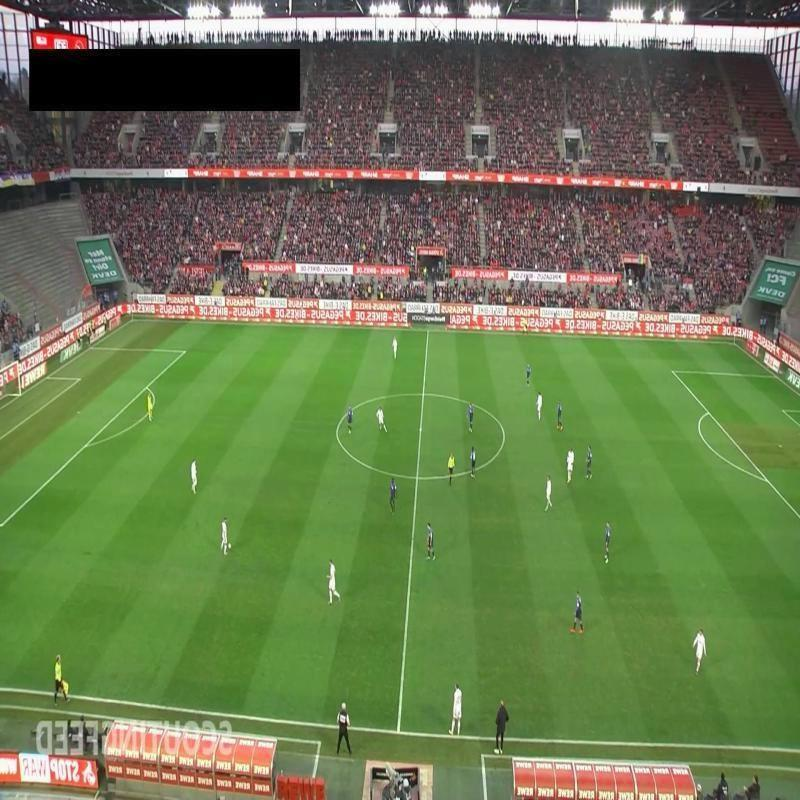1: (126, 312, 140, 328), (728, 336, 742, 350)
10: (702, 406, 716, 420), (140, 383, 153, 395)
11: (759, 474, 776, 490), (78, 439, 92, 454)
12: (0, 521, 5, 530)
13: (422, 323, 436, 337)
14: (416, 388, 431, 402)
15: (410, 472, 424, 486)
16: (390, 721, 406, 743)
2: (769, 369, 784, 383), (84, 342, 98, 354)
3: (42, 368, 55, 382)
7: (776, 404, 792, 418), (73, 371, 87, 385)
9: (665, 366, 682, 379), (178, 344, 192, 358)
c: (330, 422, 343, 438), (498, 429, 512, 443)
